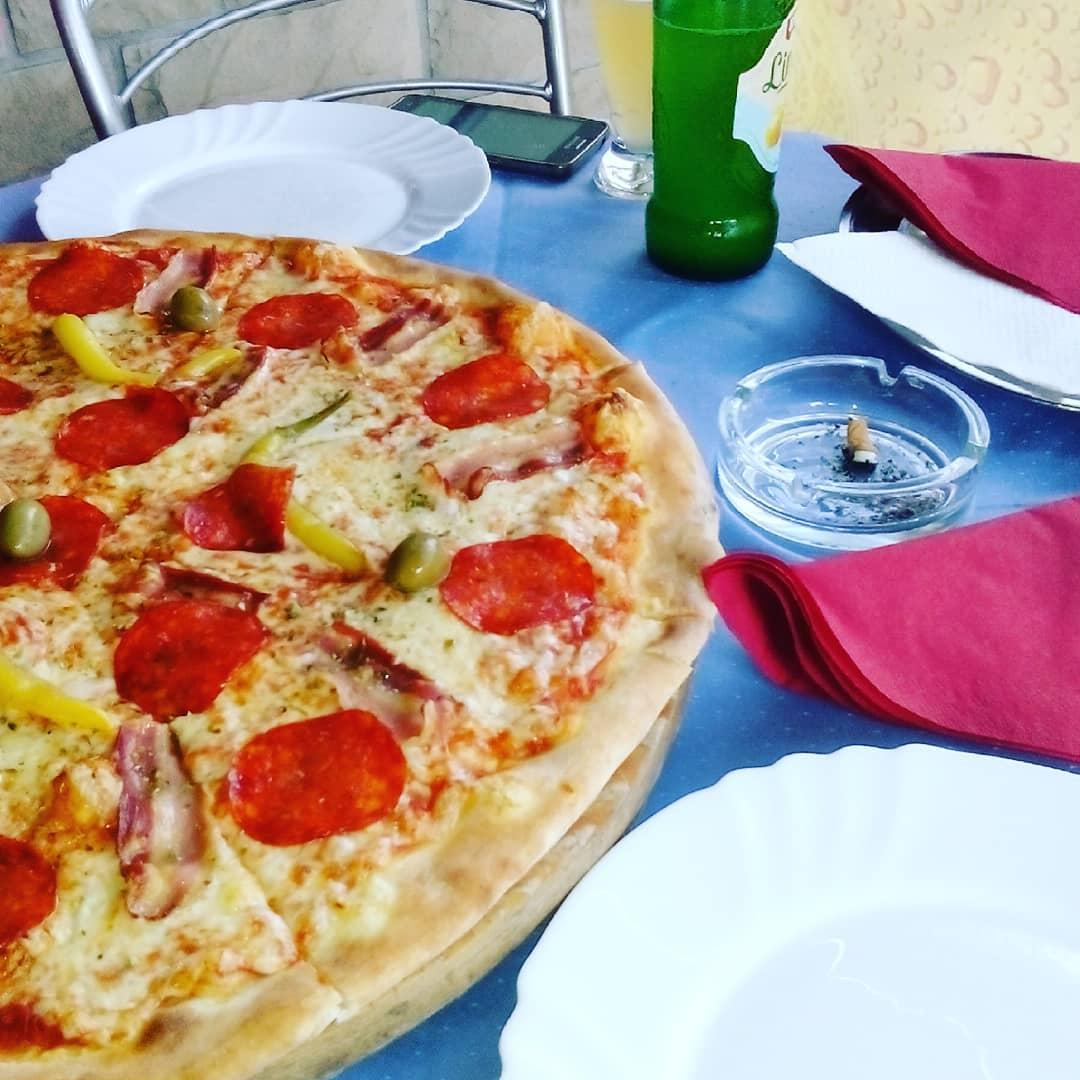Olives: (389, 526, 451, 590), (0, 497, 59, 556), (167, 284, 223, 333)
Pepperoni: (226, 714, 408, 842), (107, 602, 262, 714), (444, 540, 598, 629), (53, 389, 181, 467), (0, 490, 93, 594), (182, 464, 289, 549), (424, 359, 555, 422), (0, 835, 64, 950), (31, 248, 149, 309), (238, 294, 359, 348)
Pizza: (0, 233, 727, 1080)
